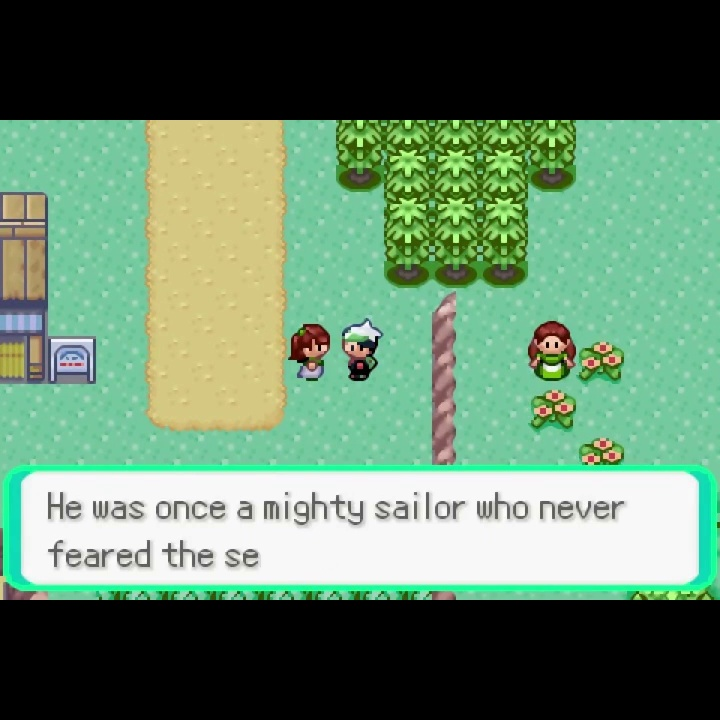npc: (526, 319, 579, 386), (284, 321, 333, 384), (340, 317, 384, 386)
wall: (383, 196, 432, 291), (481, 196, 529, 290), (433, 196, 481, 290), (334, 120, 383, 192), (530, 120, 577, 192), (383, 149, 433, 196), (433, 148, 481, 196), (482, 148, 529, 196), (383, 120, 433, 149), (433, 120, 481, 149), (481, 120, 527, 149)
